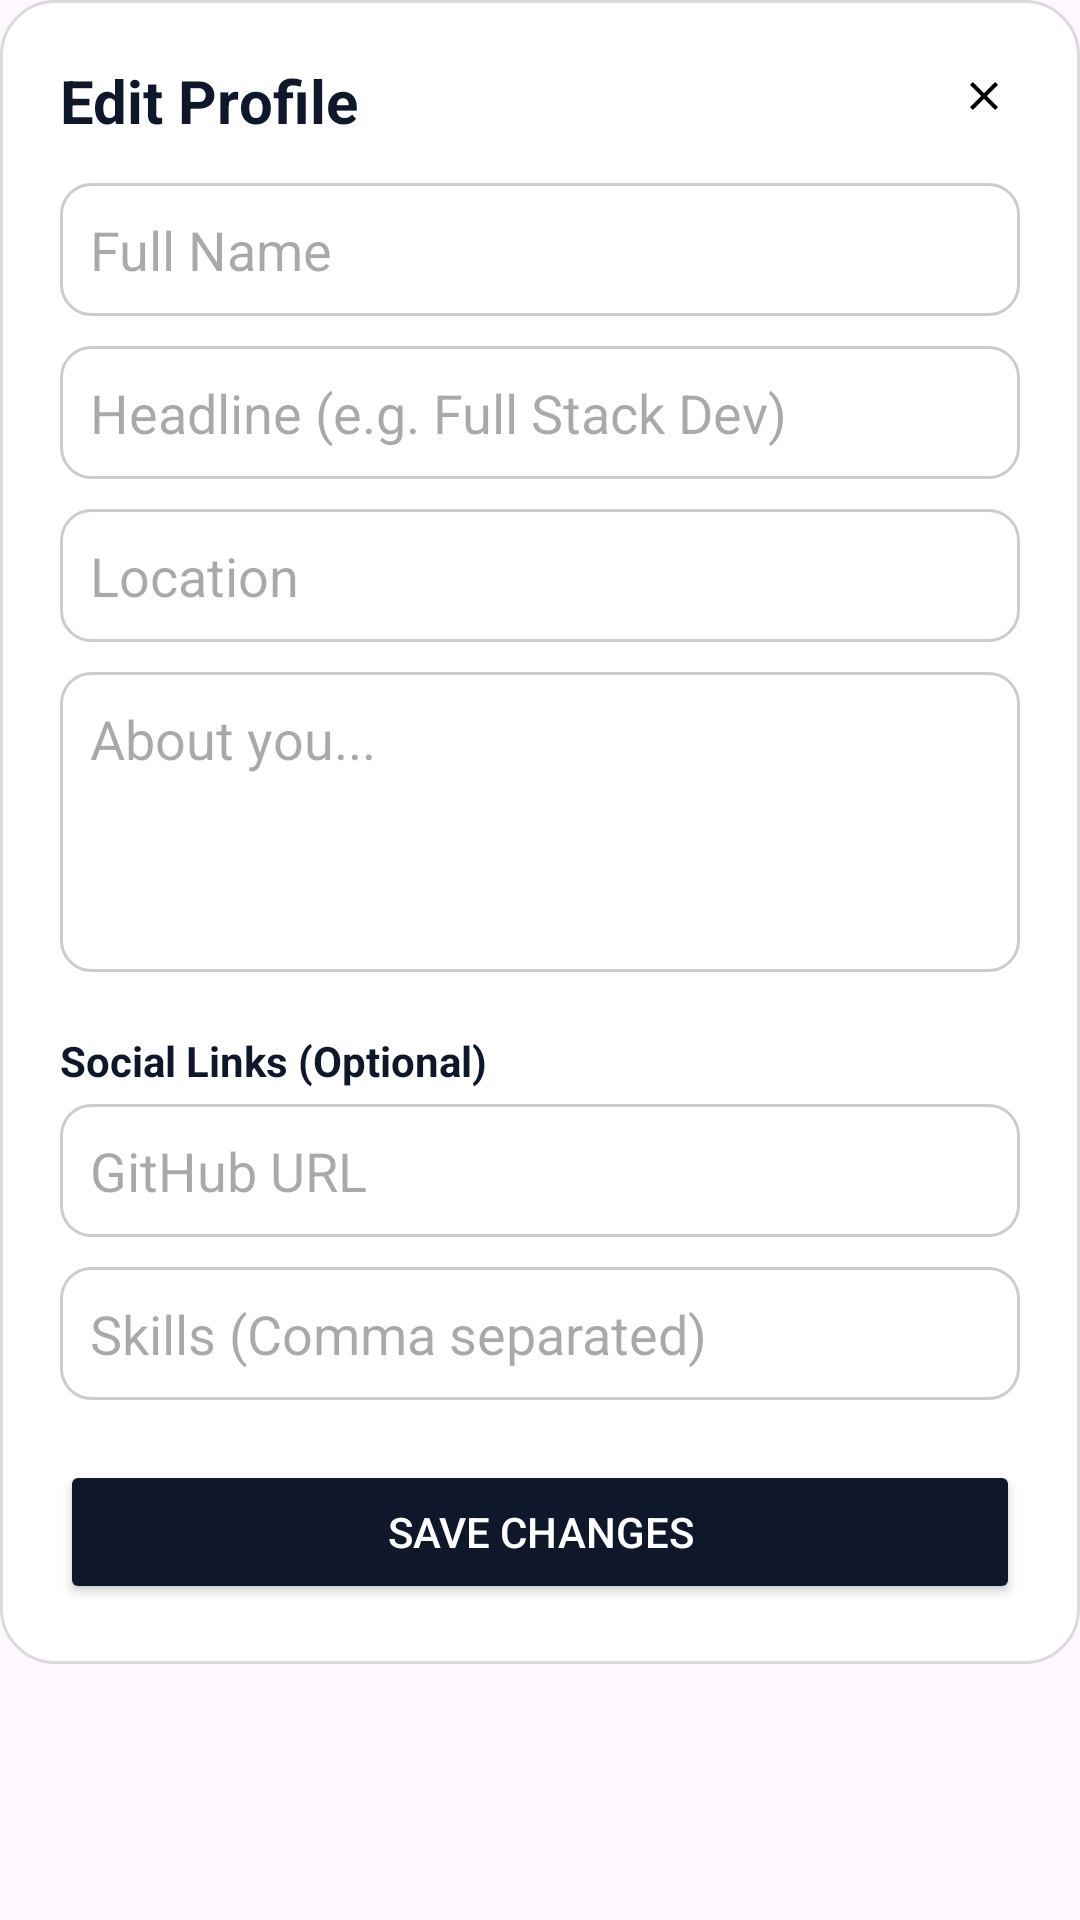

Icons on this 1080x1920 Android screen, each with its box as (x1, y1, x2, y2):
close: (970, 82, 998, 110)
